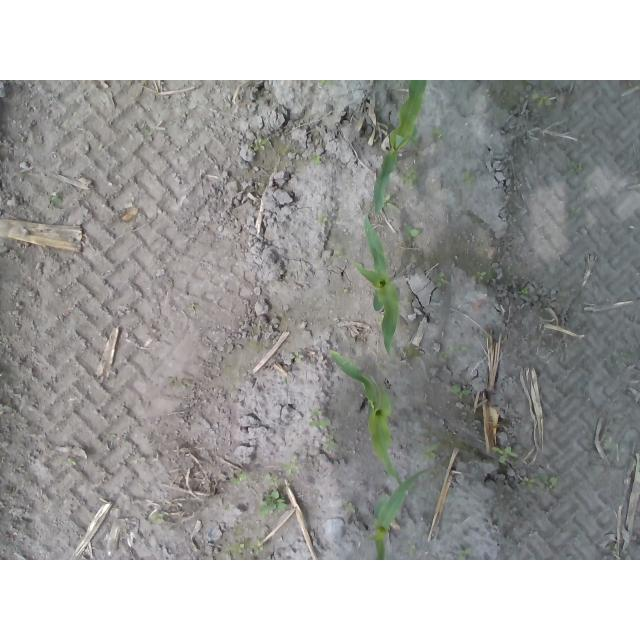Maize: (329, 350, 408, 493), (370, 80, 430, 209), (353, 211, 402, 355), (366, 467, 430, 560)
Weeds: (259, 488, 287, 517), (518, 475, 560, 491), (227, 540, 265, 557), (438, 342, 470, 362), (531, 89, 554, 109), (492, 445, 513, 463), (420, 443, 441, 461), (450, 382, 472, 398), (231, 469, 250, 487), (282, 461, 303, 477), (401, 167, 418, 184), (309, 418, 330, 431), (401, 226, 419, 241), (455, 546, 474, 560), (263, 472, 279, 488), (325, 435, 340, 452), (253, 136, 269, 151), (435, 272, 449, 289), (463, 168, 476, 184), (381, 194, 396, 207), (431, 127, 446, 139), (570, 161, 583, 174), (292, 351, 304, 364), (471, 272, 486, 281), (64, 458, 76, 467), (311, 155, 321, 165), (319, 80, 332, 85)
